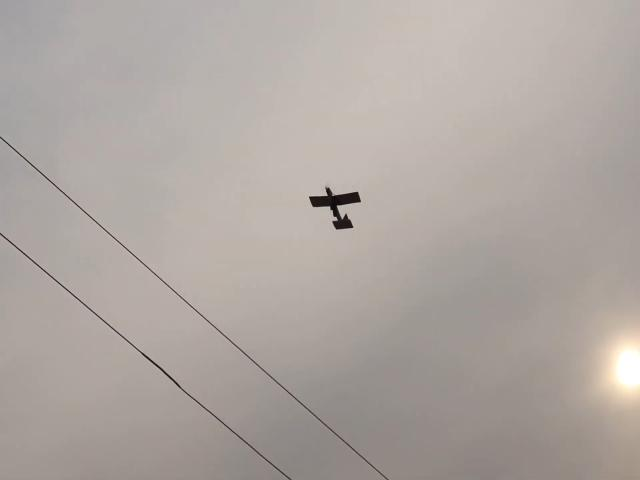plane: (310, 187, 361, 231)
